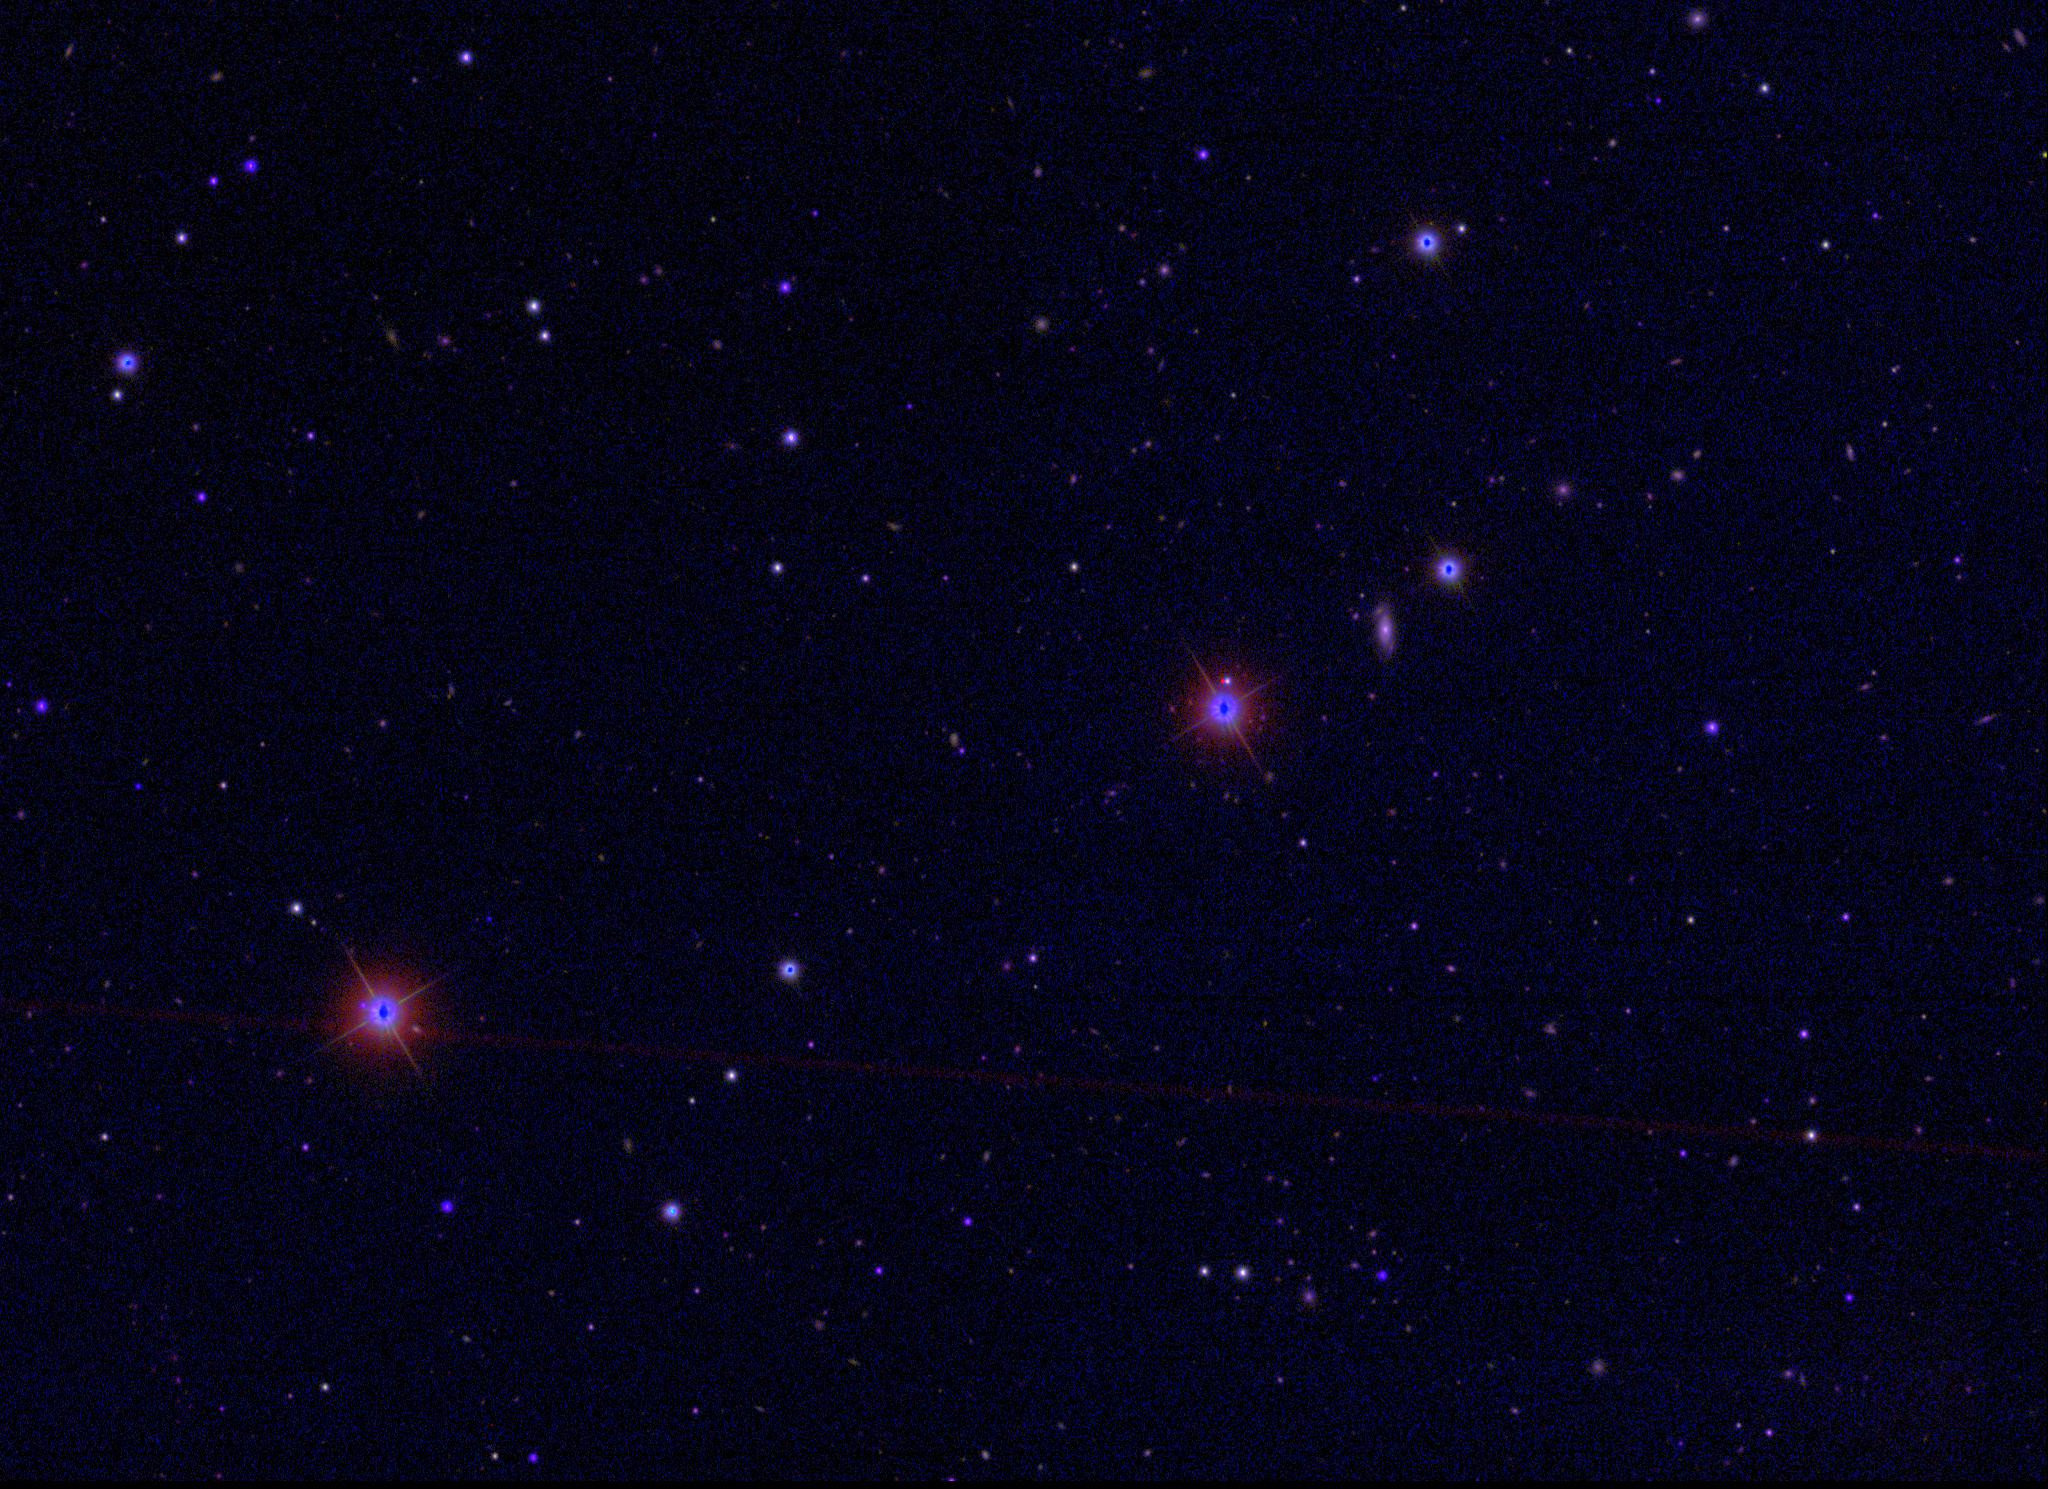L: (130, 781, 145, 795)
